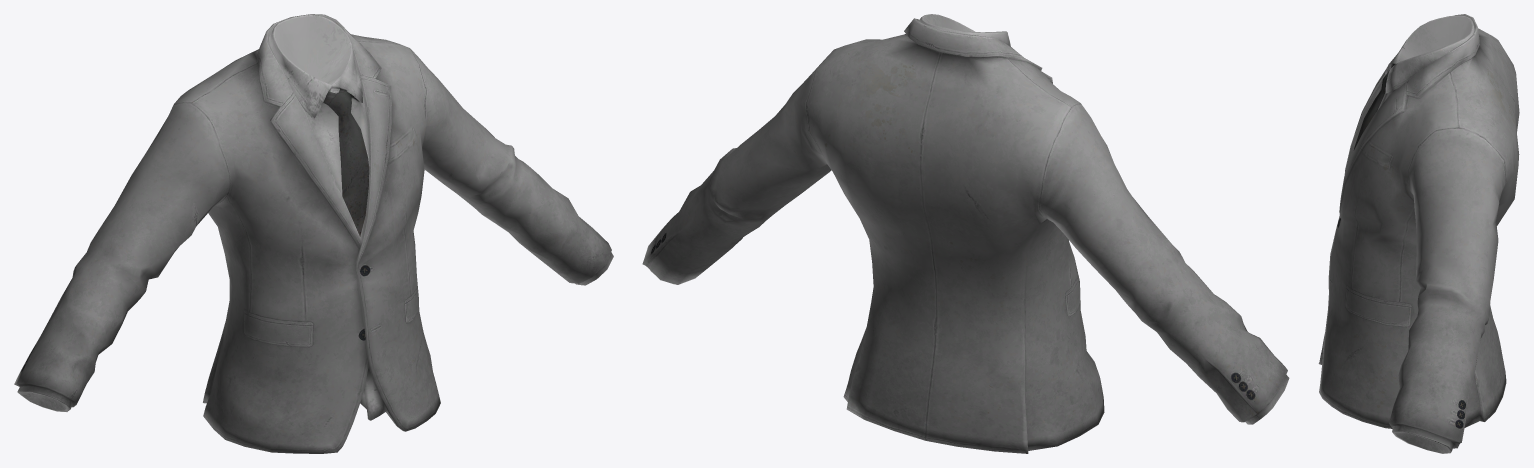
The model's file is SurvivorMale_Chest_Jacket_Suit_LOD0.glb.
3 views of the same model, side by side, from view 1: azimuth 30°, elevation 25°; view 2: azimuth 150°, elevation 25°; view 3: azimuth 270°, elevation 25° (orthographic). The views are drawn at different scales.
Visible parts, largest first — view 1: Hoodie; view 2: Hoodie; view 3: Hoodie.
Boxes of the visible parts, x1,y1,x2,y2 form: Hoodie: (14,14,613,453); Hoodie: (642,14,1289,453); Hoodie: (1318,14,1519,453).
Size of the model in its own units: 1.15 by 0.701 by 0.3568.
Materials: 1 (1 with a texture image).
